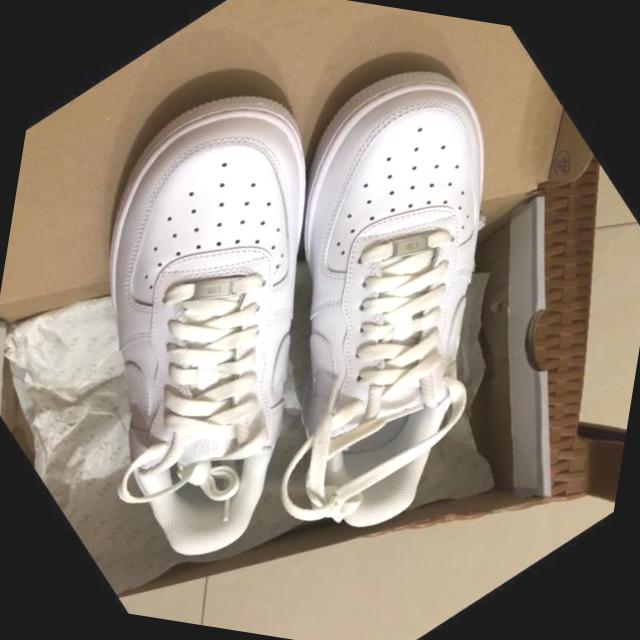nike_original_airforce: (72, 0, 640, 605), (0, 23, 519, 620)
